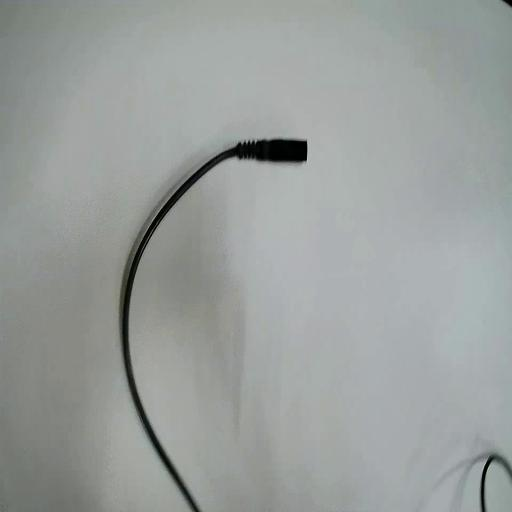wire: (122, 140, 306, 511)
